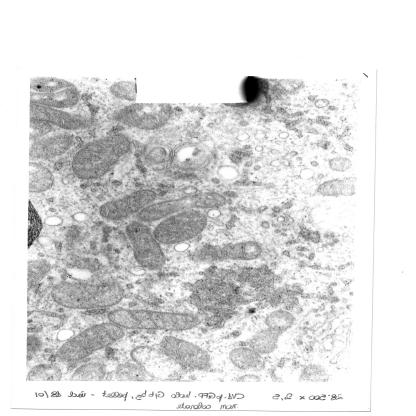mitochondria: (73, 132, 131, 180), (134, 192, 229, 221), (57, 323, 125, 361), (127, 344, 188, 380), (246, 310, 296, 353), (106, 309, 201, 331), (124, 221, 166, 270), (51, 282, 124, 310), (98, 188, 159, 220), (154, 210, 209, 244), (160, 336, 213, 371), (188, 240, 264, 264), (30, 106, 98, 131), (111, 104, 175, 130), (31, 78, 80, 107), (31, 131, 75, 159), (227, 347, 267, 371), (317, 175, 355, 198), (328, 156, 352, 172)
